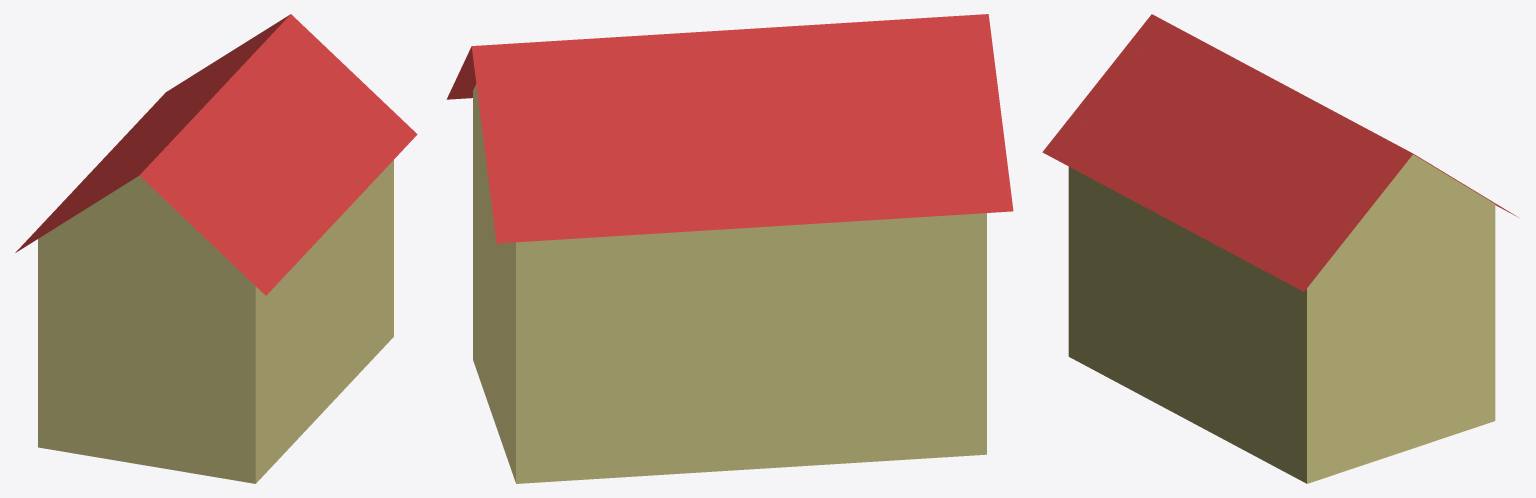
3 views of the same model, side by side, from view 1: azimuth 30°, elevation 25°; view 2: azimuth 150°, elevation 25°; view 3: azimuth 270°, elevation 25° (orthographic). The views are drawn at different scales.
Size of the model in its own units: 20.08 by 19.14 by 13.43.
